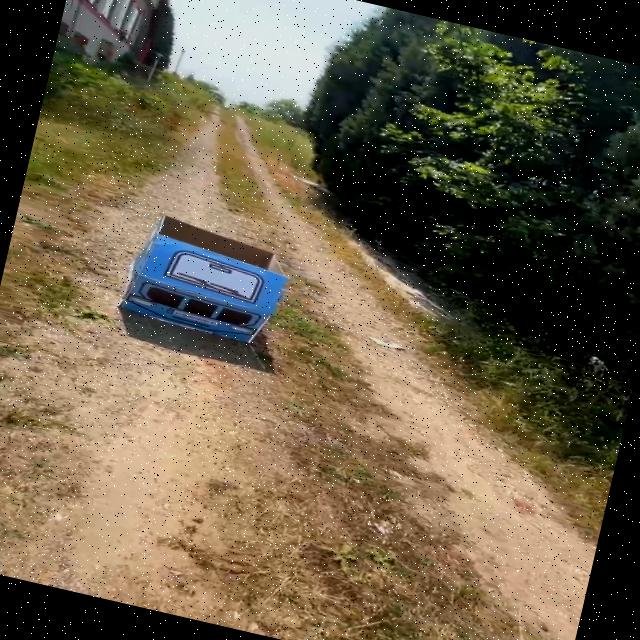blue_car: (67, 180, 330, 371)
